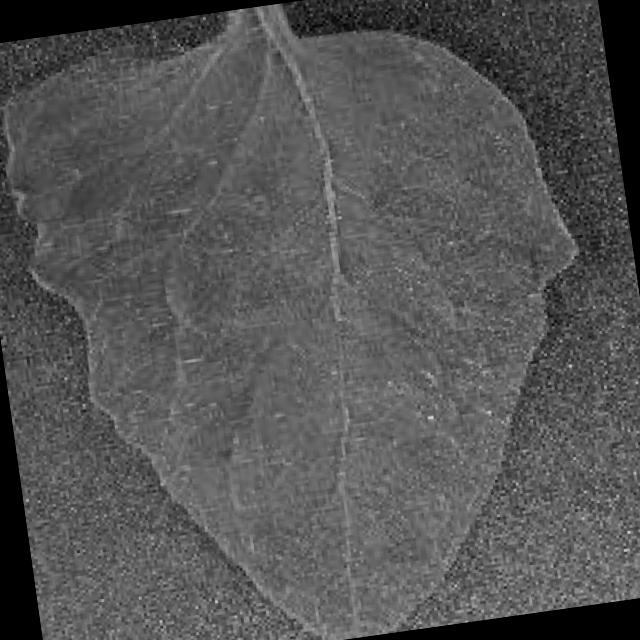healthy: (3, 2, 578, 640)
